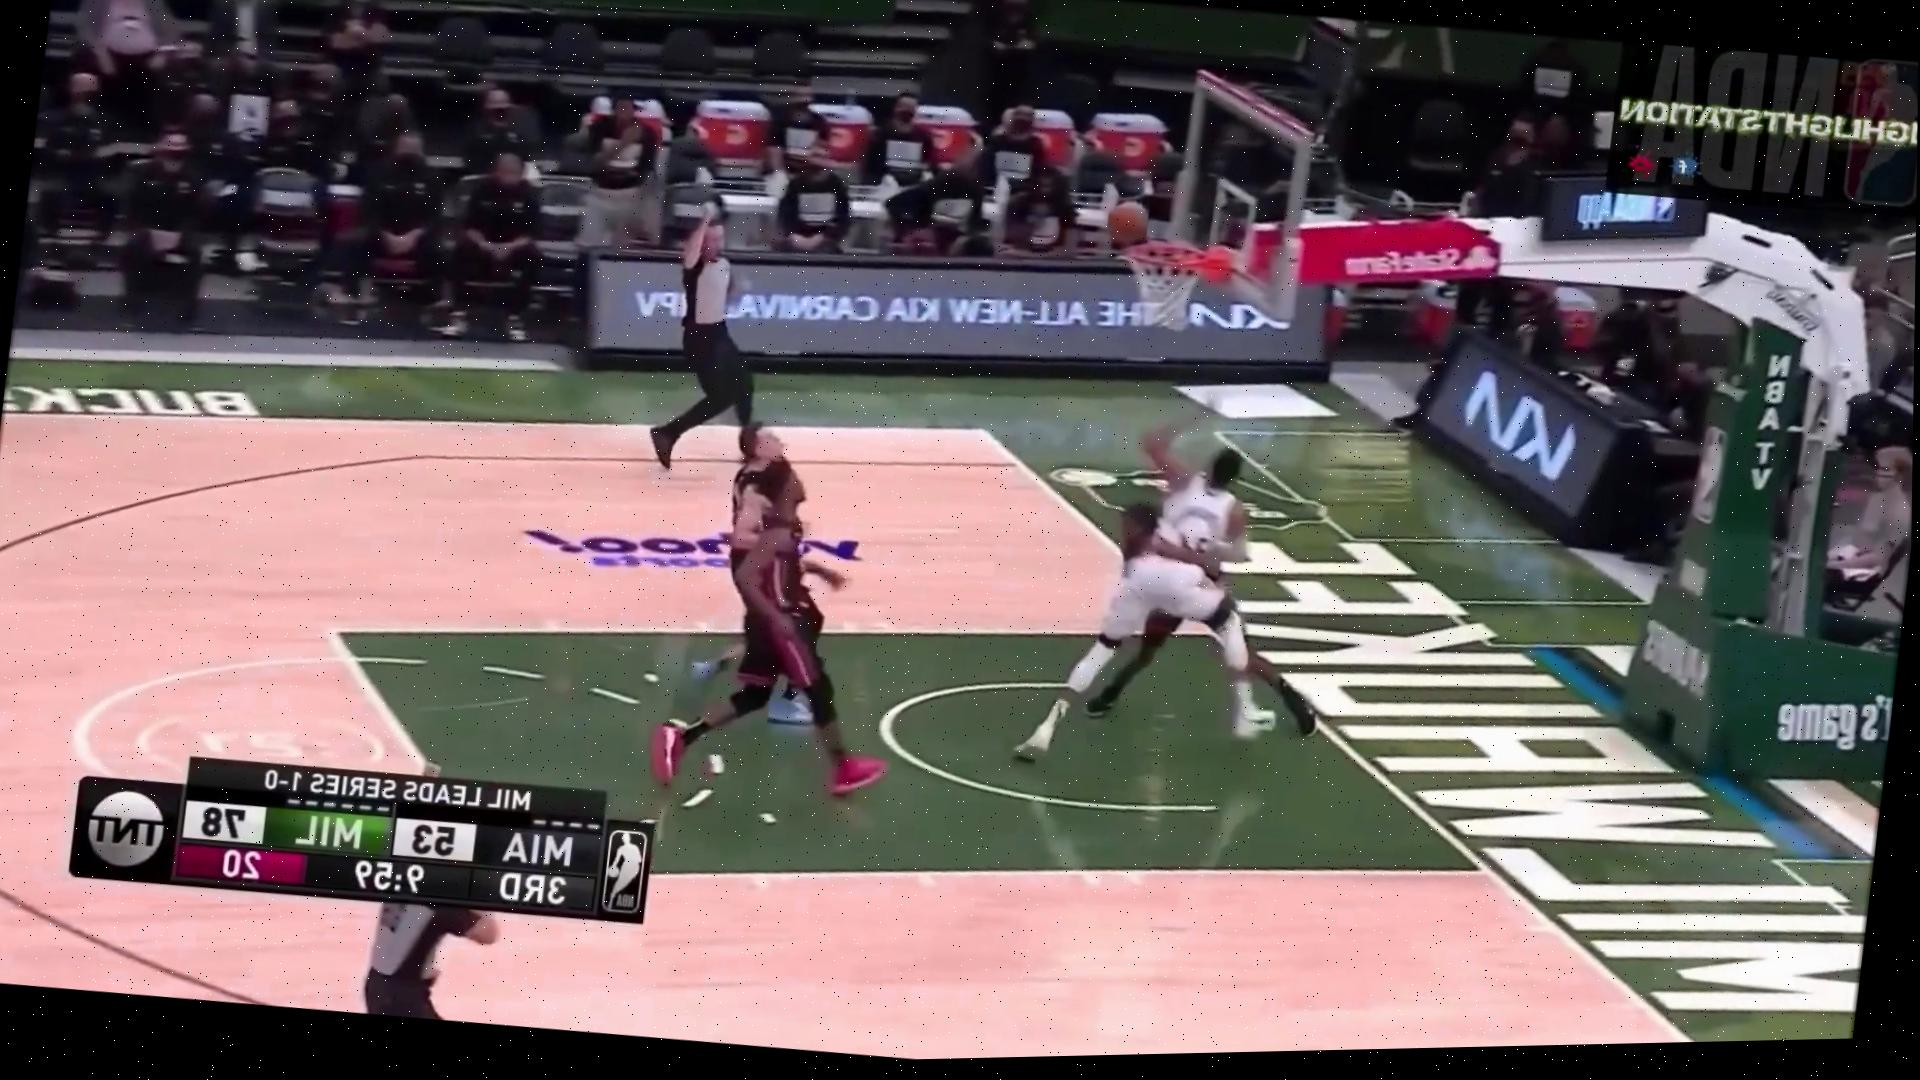foul: (991, 420, 1348, 780)
